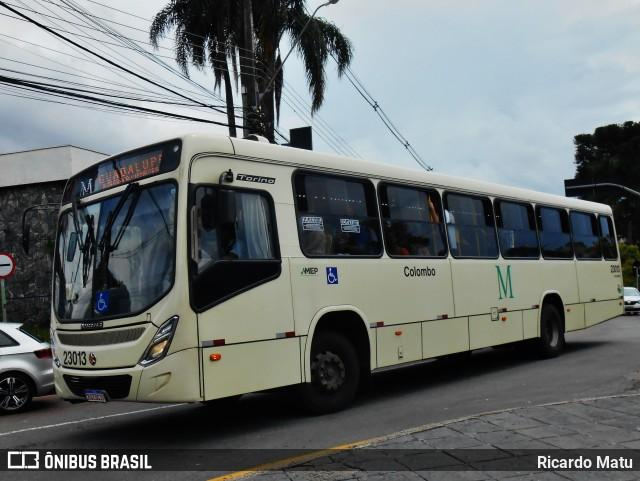GUADALUPE: (96, 152, 166, 188)
